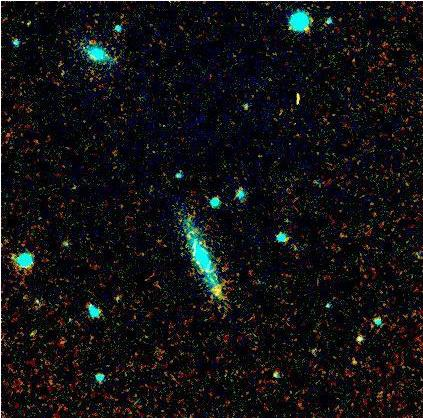star: (199, 275, 229, 305)
